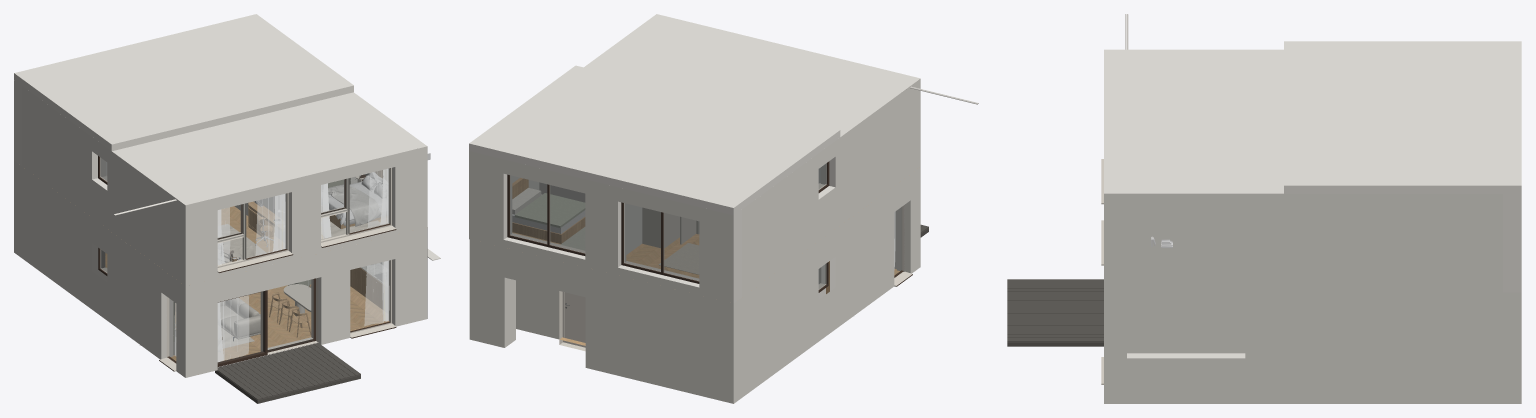
Rendered from wnetrze-b.glb.
3 renders of one model, left to right at view 1: azimuth 30°, elevation 25°; view 2: azimuth 150°, elevation 25°; view 3: azimuth 270°, elevation 25°, orthographic. The views are drawn at different scales.
Visible parts, largest first — view 1: KOND_1__SUFIT, KOND_0__WNETRZE, KOND_1__WNETRZE, KOND_0__TRANSPARENT, KOND_1__TRANSPARENT, KOND_0__PODLOGA, KOND_0__DETALE, KOND_1__PODLOGA, KOND_1__DETALE; view 2: KOND_1__SUFIT, KOND_0__WNETRZE, KOND_1__WNETRZE, KOND_1__TRANSPARENT, KOND_1__DETALE, KOND_1__PODLOGA, KOND_0__TRANSPARENT; view 3: KOND_1__WNETRZE, KOND_1__SUFIT, KOND_0__WNETRZE.
Part boxes in pixels (x1,y1,x2,y2): KOND_1__SUFIT: (14, 14, 426, 214); KOND_0__WNETRZE: (14, 161, 440, 403); KOND_1__WNETRZE: (14, 80, 427, 318); KOND_0__TRANSPARENT: (100, 249, 389, 363); KOND_1__TRANSPARENT: (100, 158, 388, 265); KOND_0__PODLOGA: (105, 253, 388, 360); KOND_0__DETALE: (173, 266, 382, 342); KOND_1__PODLOGA: (221, 206, 380, 252); KOND_1__DETALE: (223, 153, 430, 261); KOND_1__SUFIT: (469, 14, 977, 215); KOND_0__WNETRZE: (469, 167, 928, 403); KOND_1__WNETRZE: (469, 79, 978, 303); KOND_1__TRANSPARENT: (510, 163, 826, 280); KOND_1__DETALE: (512, 188, 699, 274); KOND_1__PODLOGA: (512, 232, 699, 278); KOND_0__TRANSPARENT: (818, 207, 901, 289); KOND_1__WNETRZE: (1101, 14, 1521, 403); KOND_1__SUFIT: (1104, 14, 1521, 193); KOND_0__WNETRZE: (1007, 279, 1245, 384).
Bounding box in the file's own units: 11.04 × 6.05 × 12.32.
Materials: 20 (7 with a texture image).
